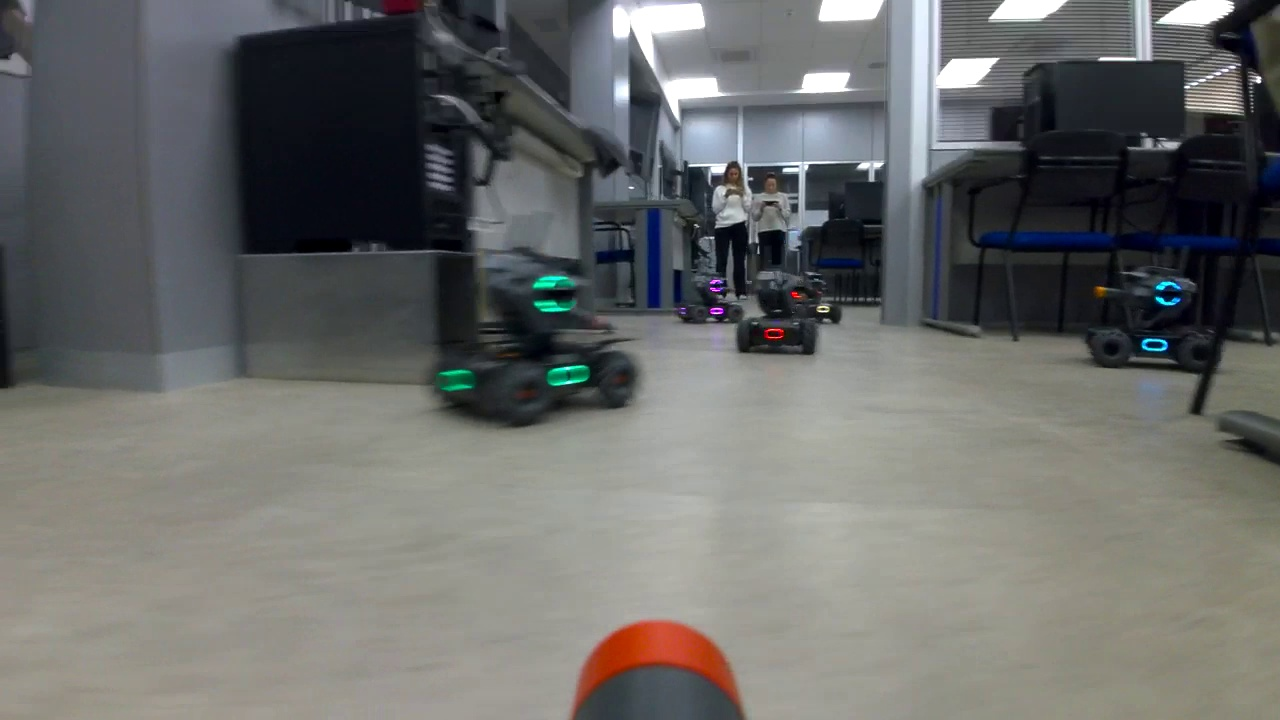robot: (426, 266, 640, 431), (1082, 263, 1225, 371), (734, 266, 822, 359), (676, 269, 742, 330), (806, 272, 843, 326)
